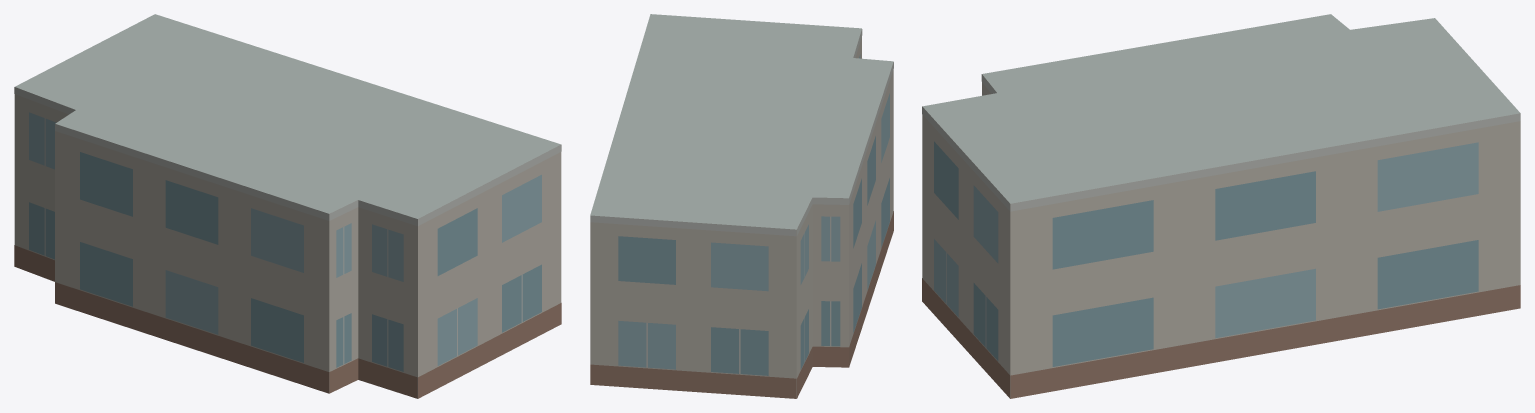
Rendered from survey-upis-32754675.glb.
The picture shows the model from 3 angles, left to right: view 1: azimuth 30°, elevation 25°; view 2: azimuth 150°, elevation 25°; view 3: azimuth 270°, elevation 25°; orthographic projection. The views are drawn at different scales.
Visible parts, largest first — view 1: survey-upis-32754675.tmp; view 2: survey-upis-32754675.tmp; view 3: survey-upis-32754675.tmp.
Part boxes in pixels (x1,y1,x2,y2): survey-upis-32754675.tmp: (14,14,561,398); survey-upis-32754675.tmp: (590,14,893,398); survey-upis-32754675.tmp: (922,14,1520,398).
Size of the model in its own units: 12.74 by 6.1 by 16.97.
